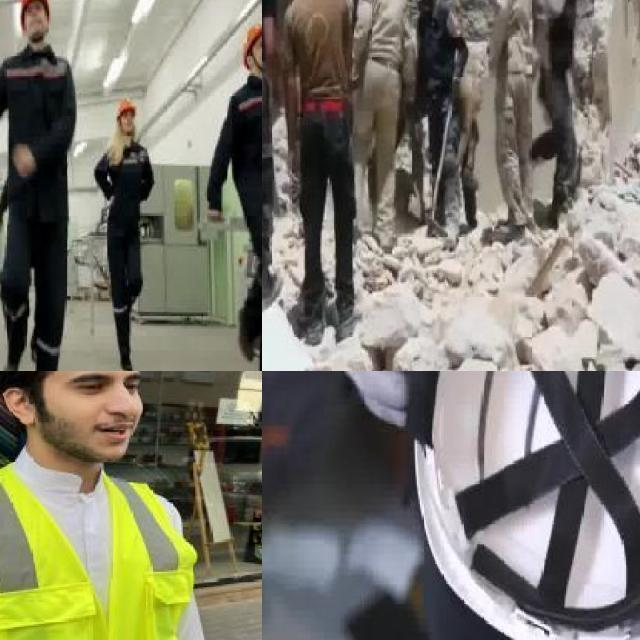apron: (317, 371, 426, 432)
